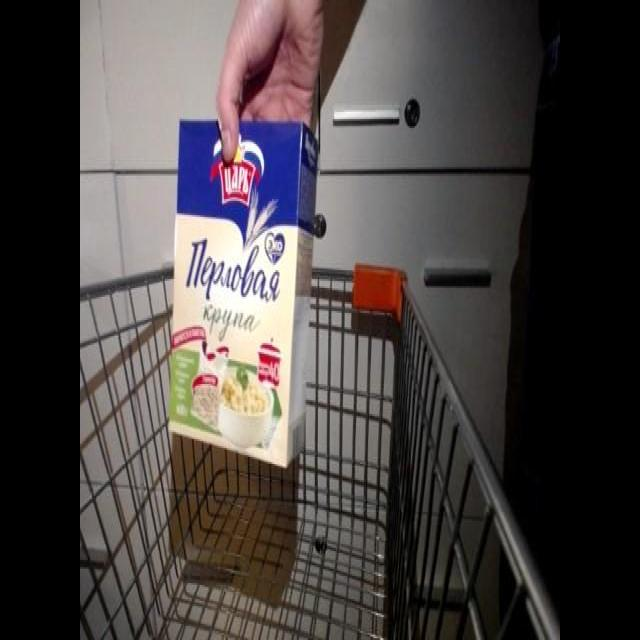Groats: (162, 109, 322, 476)
